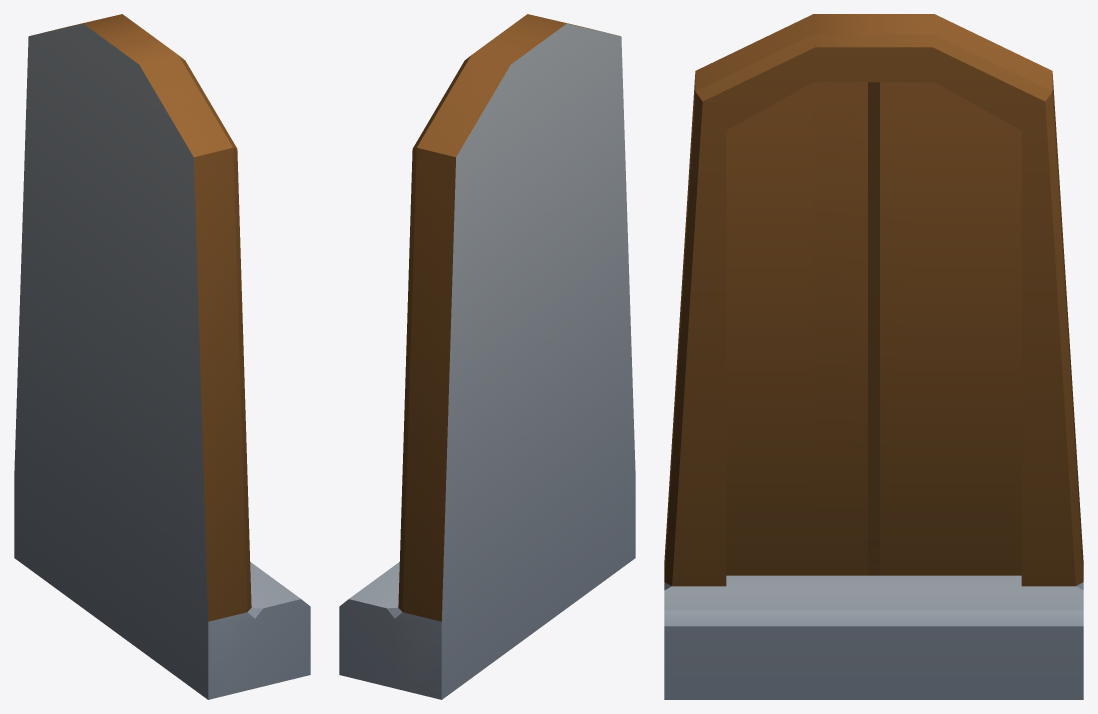
Rendered from Door.fbx.
The picture shows the model from 3 angles, left to right: view 1: azimuth 30°, elevation 25°; view 2: azimuth 150°, elevation 25°; view 3: azimuth 270°, elevation 25°; orthographic projection. The views are drawn at different scales.
Parts seen in each view (by area): view 1: pCube86; view 2: pCube86; view 3: pCube86.
Part boxes in pixels (x1,y1,x2,y2): pCube86: [14, 14, 310, 699]; pCube86: [339, 14, 635, 699]; pCube86: [664, 14, 1083, 699].
Size of the model in its own units: 0.623 by 3.39 by 2.04.
1 material, 1 textured.
